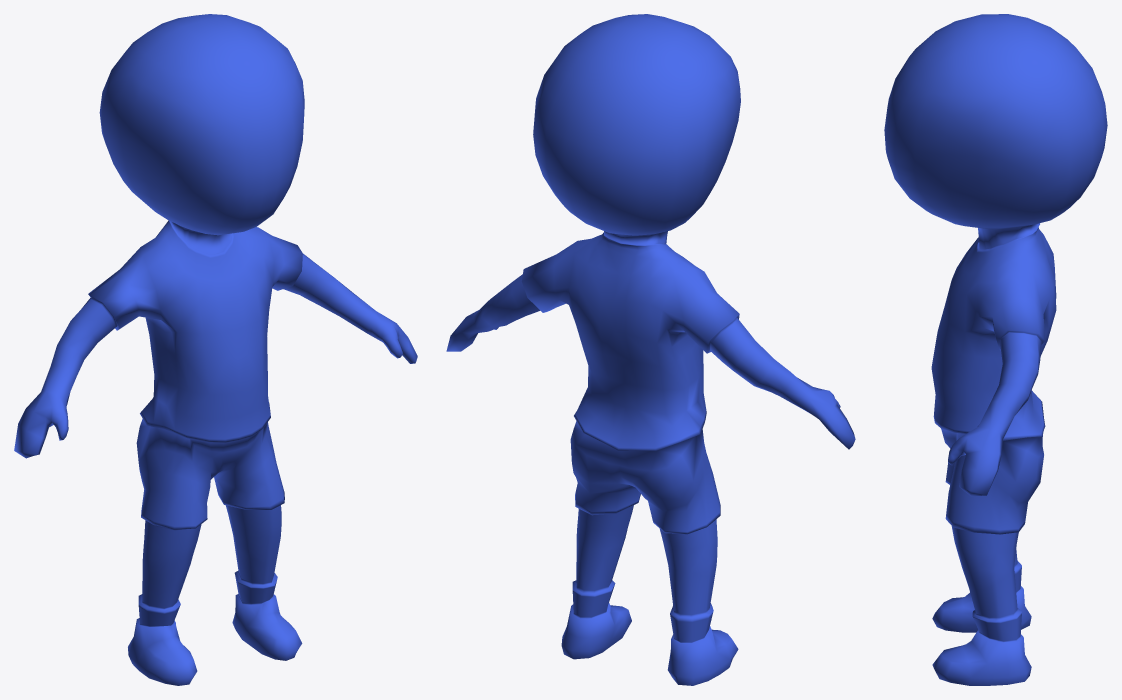
File: CharacterFBX.fbx
3 renders of one model, left to right at view 1: azimuth 30°, elevation 25°; view 2: azimuth 150°, elevation 25°; view 3: azimuth 270°, elevation 25°, orthographic.
Visible parts, largest first — view 1: Stickman_heads_sphere; view 2: Stickman_heads_sphere; view 3: Stickman_heads_sphere.
Part boxes in pixels (box(x1,y1,x2,y2)): Stickman_heads_sphere: box(14, 14, 417, 685); Stickman_heads_sphere: box(446, 14, 855, 685); Stickman_heads_sphere: box(884, 14, 1107, 685).
Size of the model in its own units: 22.46 by 33.82 by 10.93.
